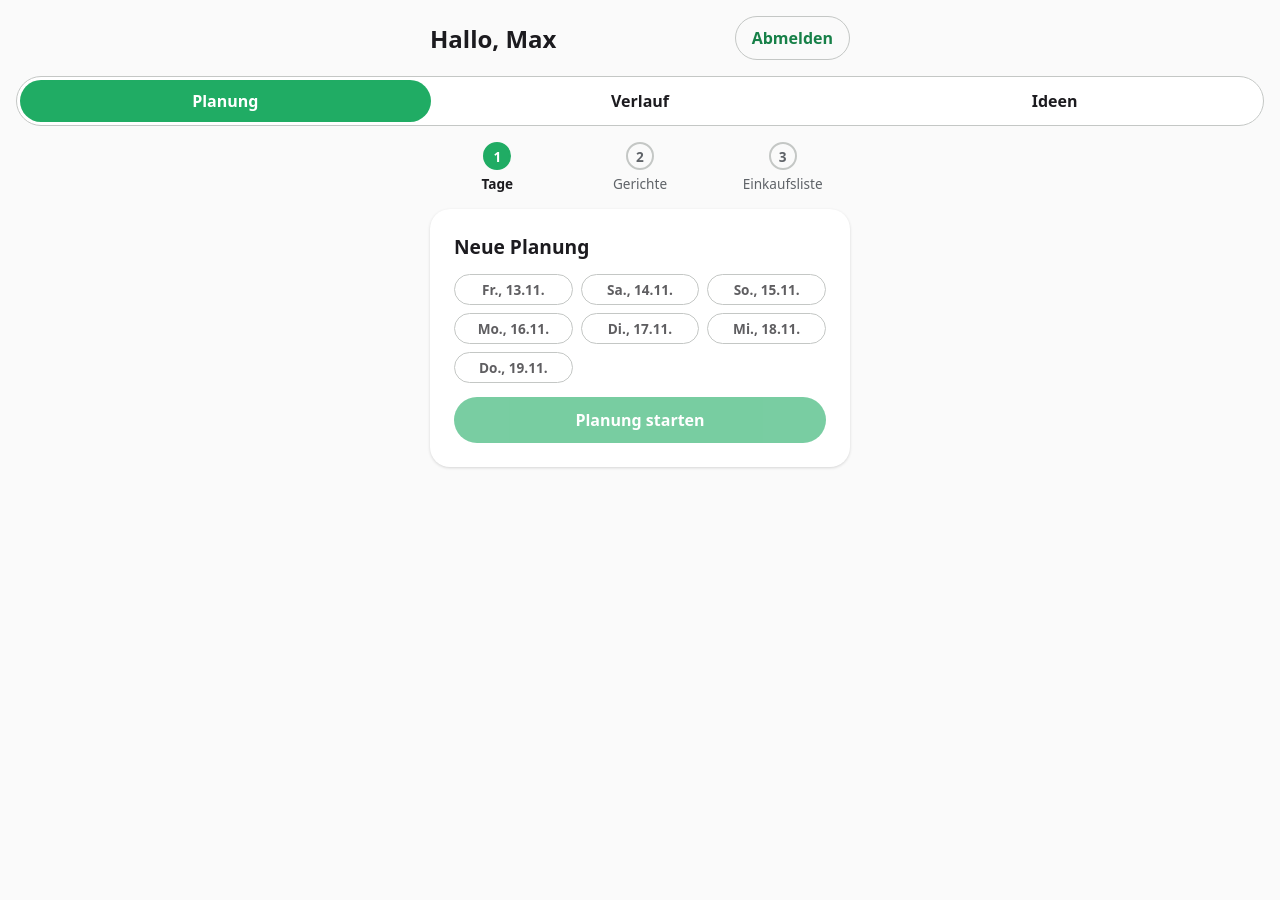
Test: cleanup of stale ideas › steps through them: keep, archive, later
The width and height of the screenshot is (1280, 900).
Click the button "Ideen" at (1055, 101), box [849,80,1260,122]
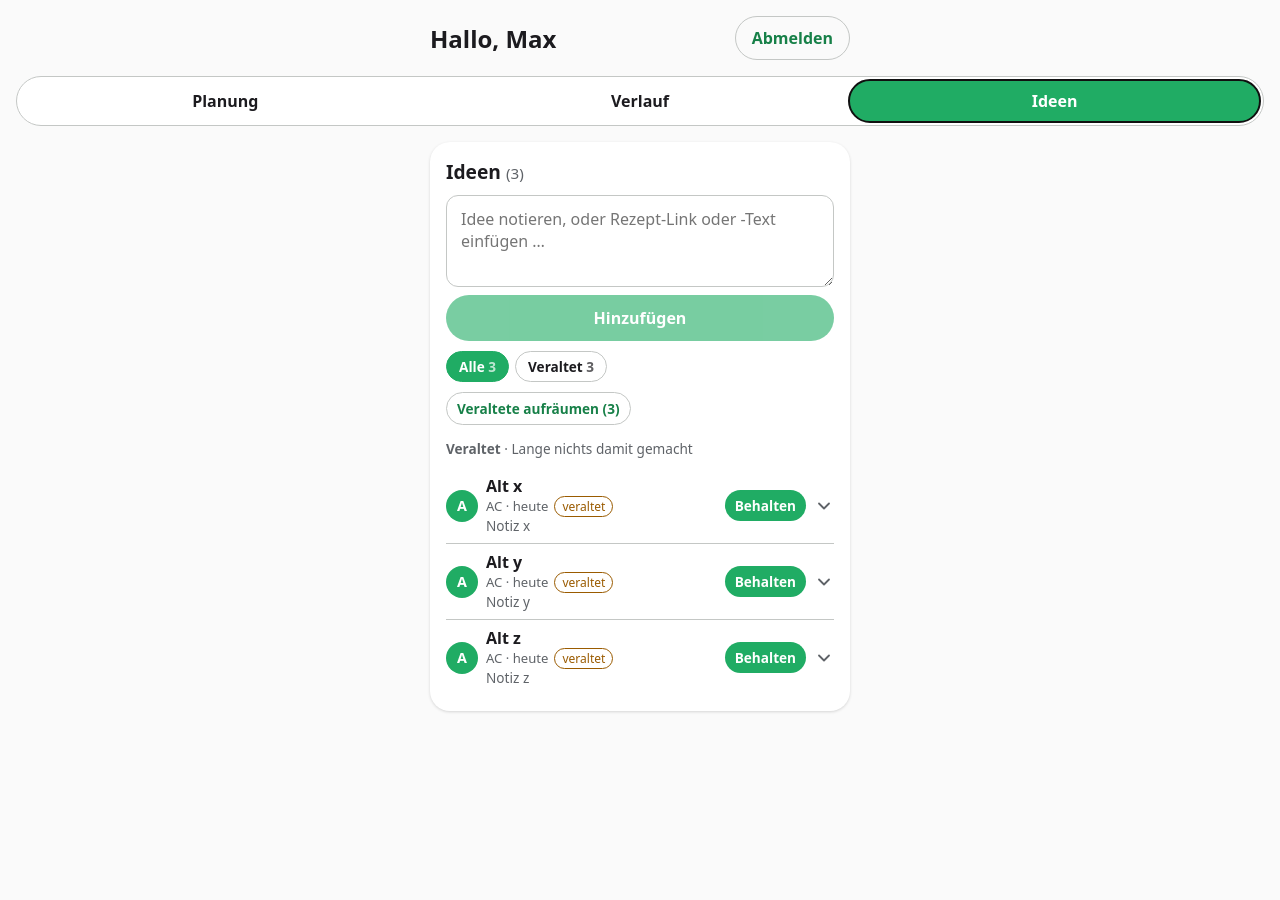
Click the button "Veraltete aufräumen (3)" at (538, 408), box [446,392,630,425]
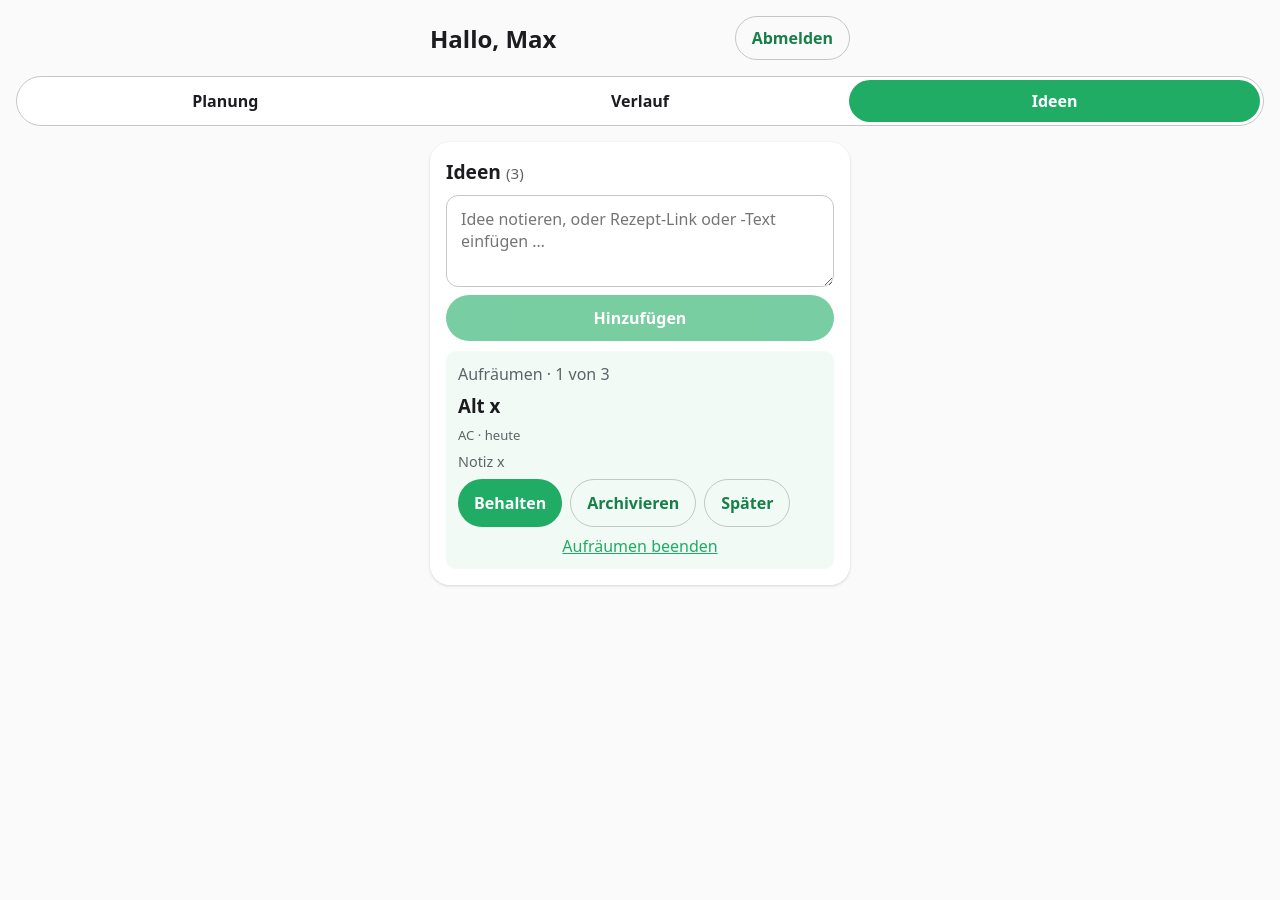
Result: the text "Notiz x" is shown at [458,452,505,471]
Result: the text "Aufräumen · 1 von 3" is shown at [458,363,610,385]
Click the button with aria-label "Alt x behalten" at (510, 503), box [458,479,562,527]
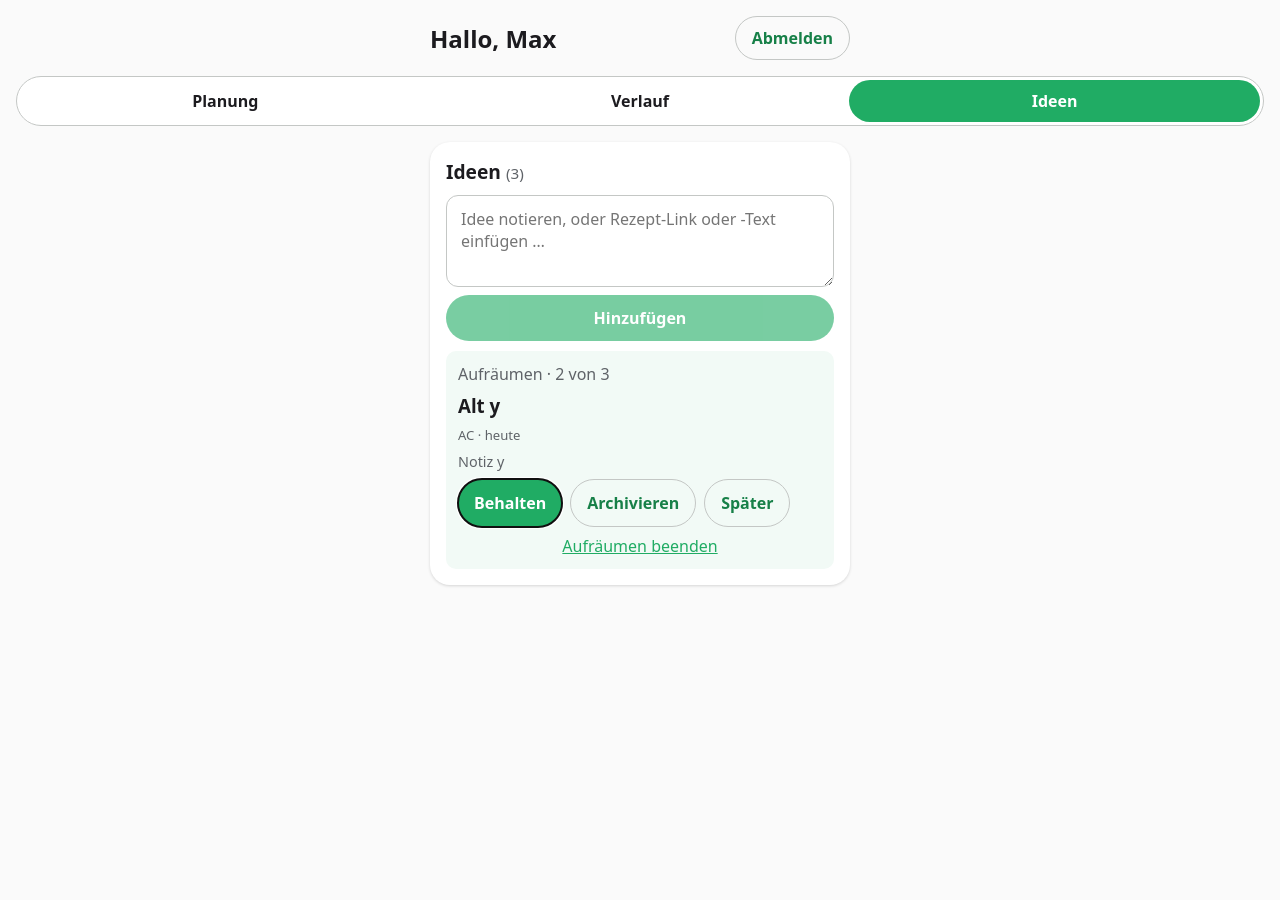
Result: the text "Aufräumen · 2 von 3" is shown at [458,363,610,385]
Click the button with aria-label "Alt y archivieren" at (633, 503), box [570,479,696,527]
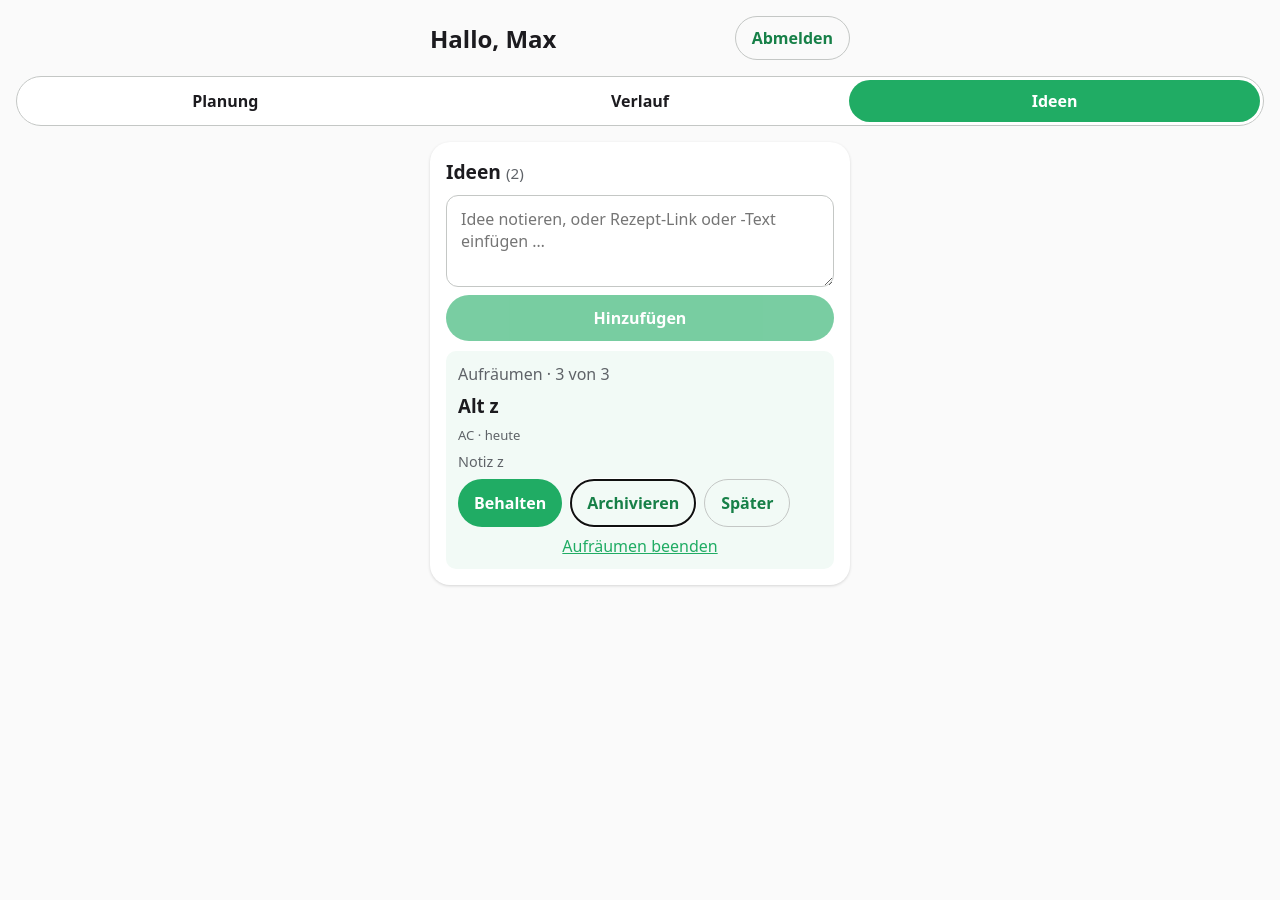
Result: the text "Aufräumen · 3 von 3" is shown at [458,363,610,385]
Click the button "Später" at (747, 503), box [704,479,790,527]
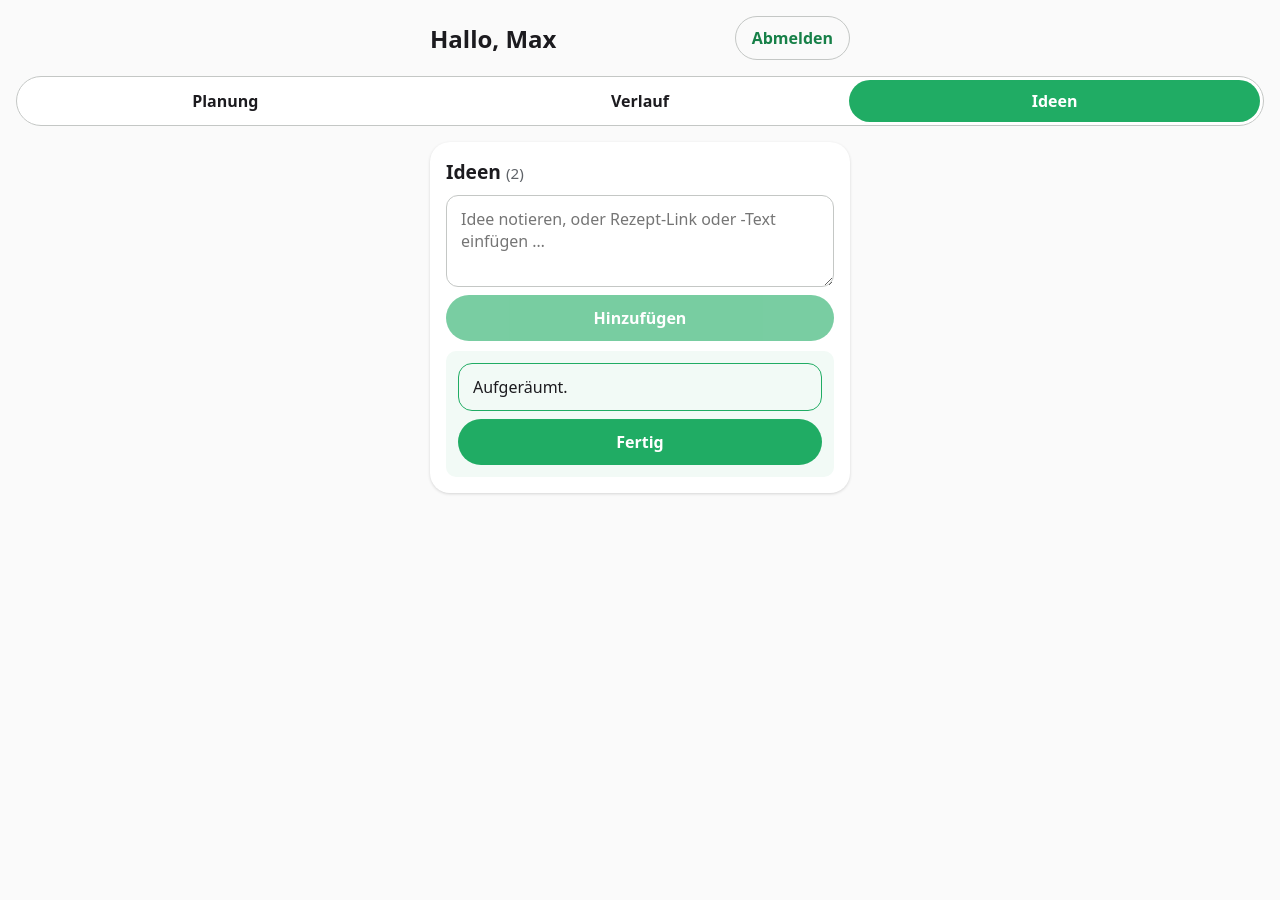
Result: the text "Aufgeräumt." is shown at [458,363,822,411]
Click the button "Fertig" at (640, 442), box [458,419,822,465]
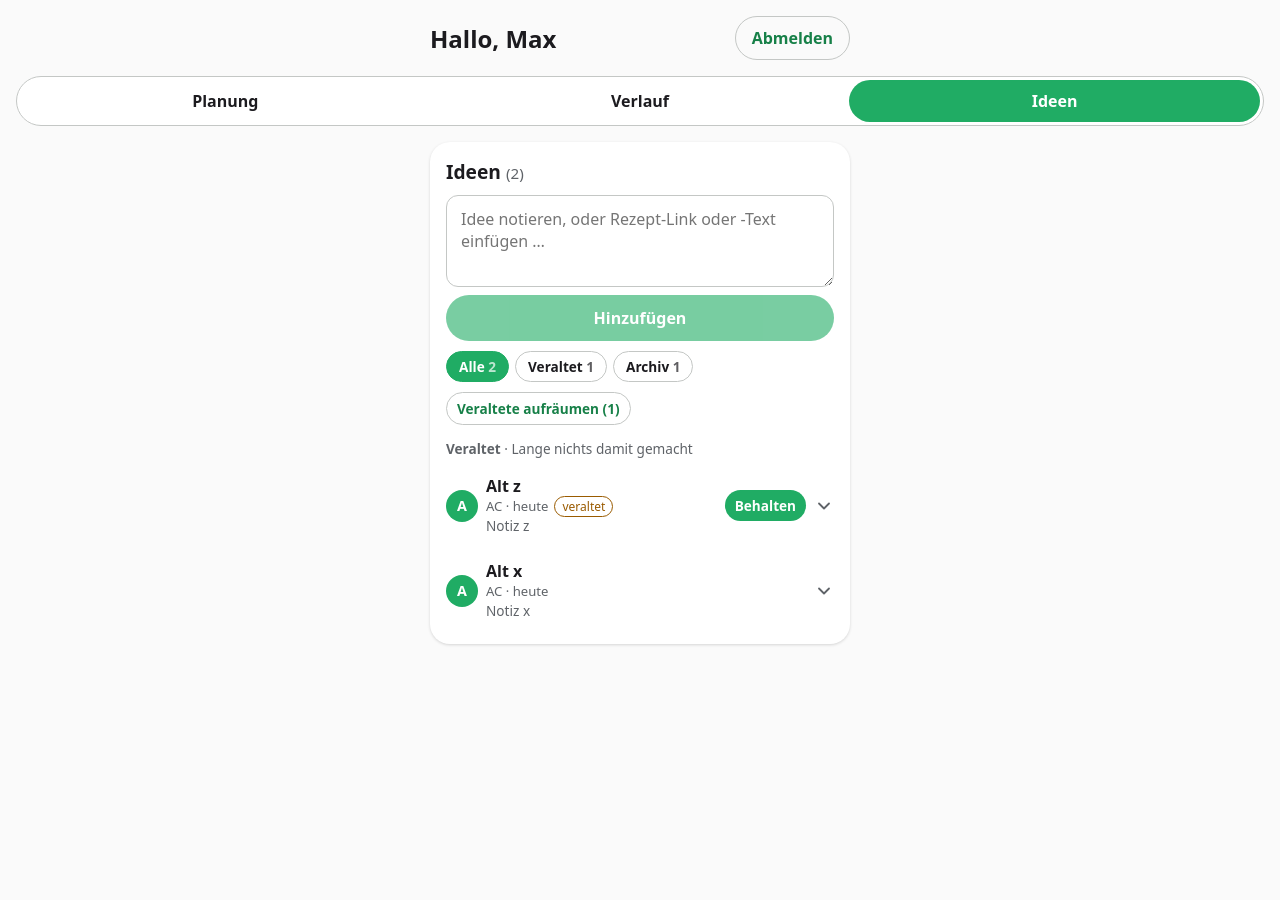
Result: the button "Alt z" is shown at [486,476,521,496]
